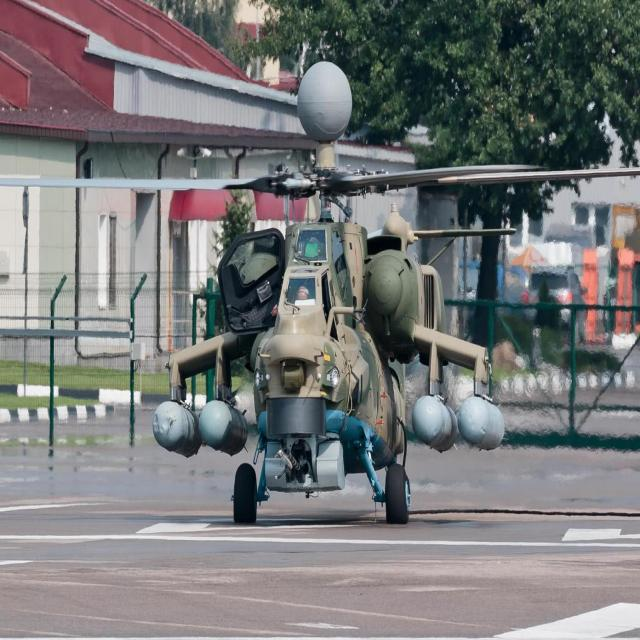MIL_HELO: (8, 59, 640, 532)
